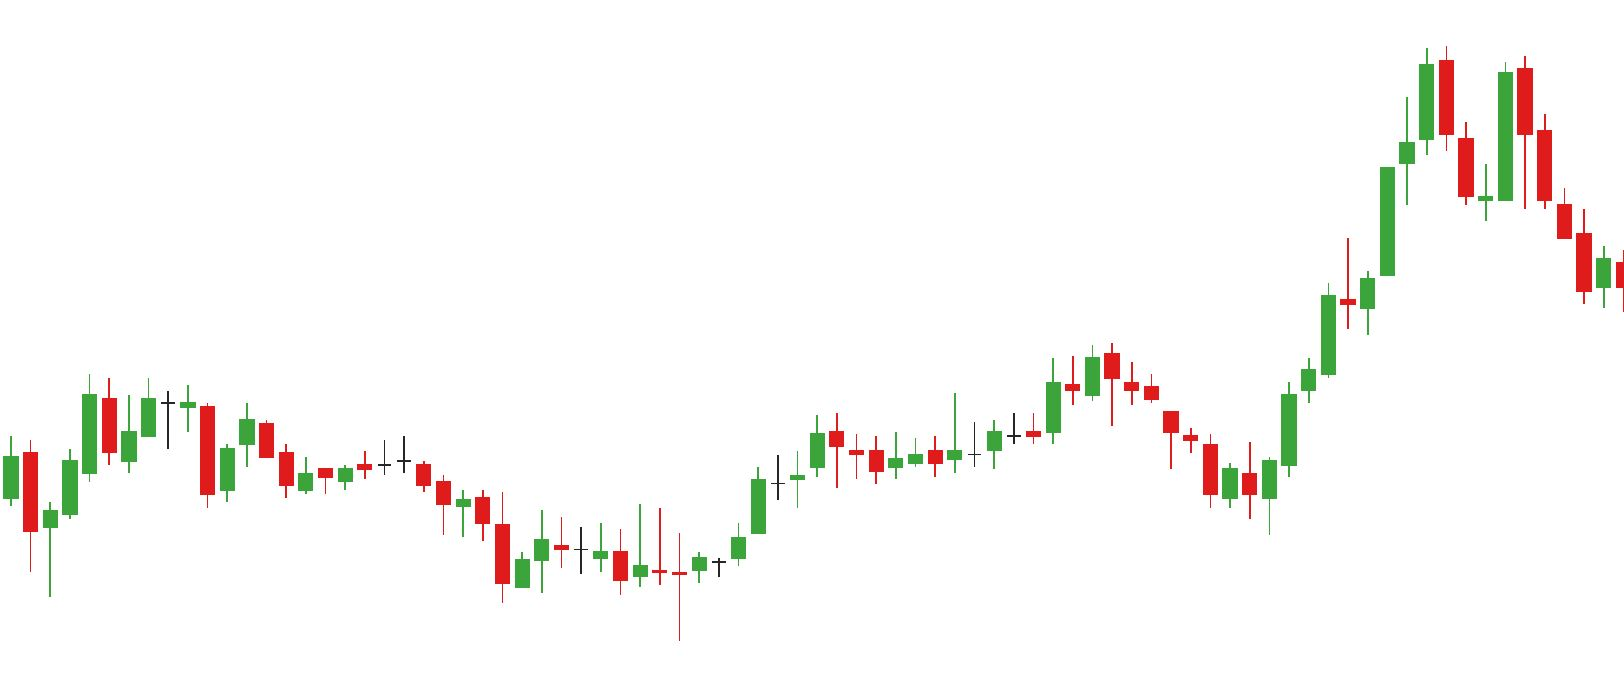buy: (888, 412, 1241, 523)
